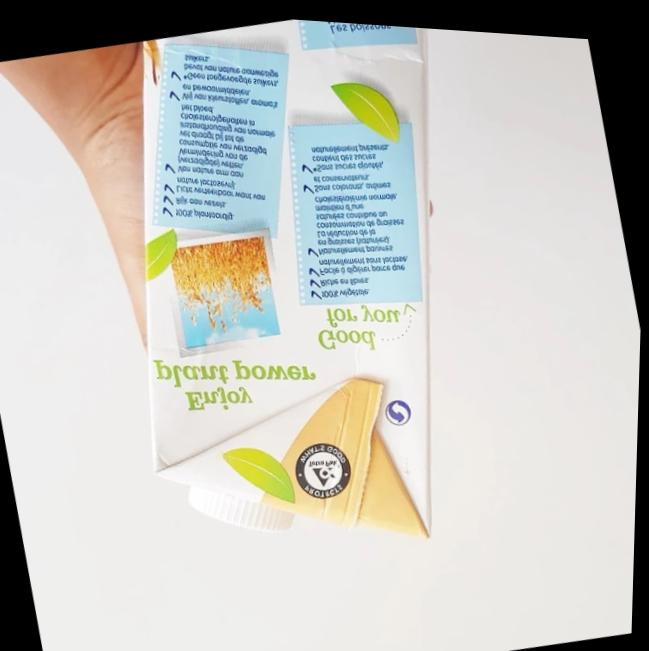cardboard: (5, 21, 436, 532)
